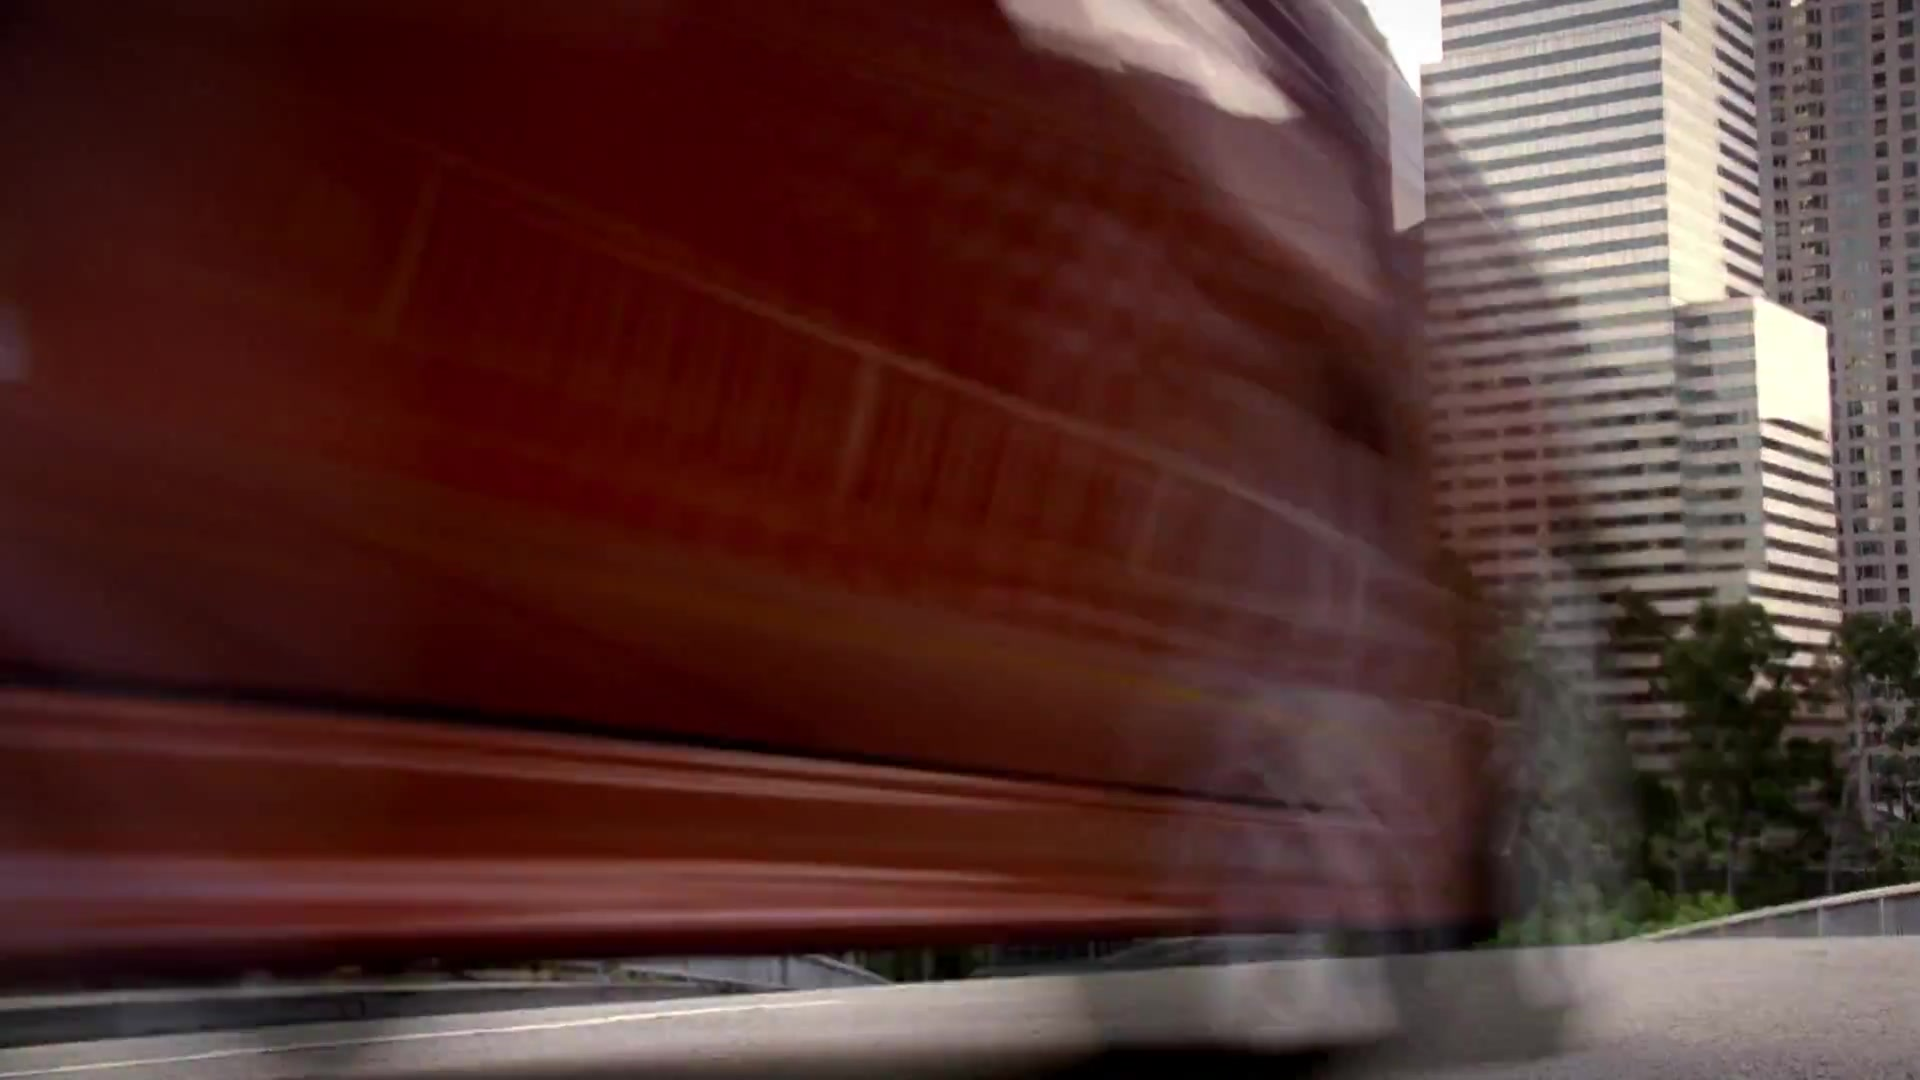car: (3, 3, 1626, 1079)
